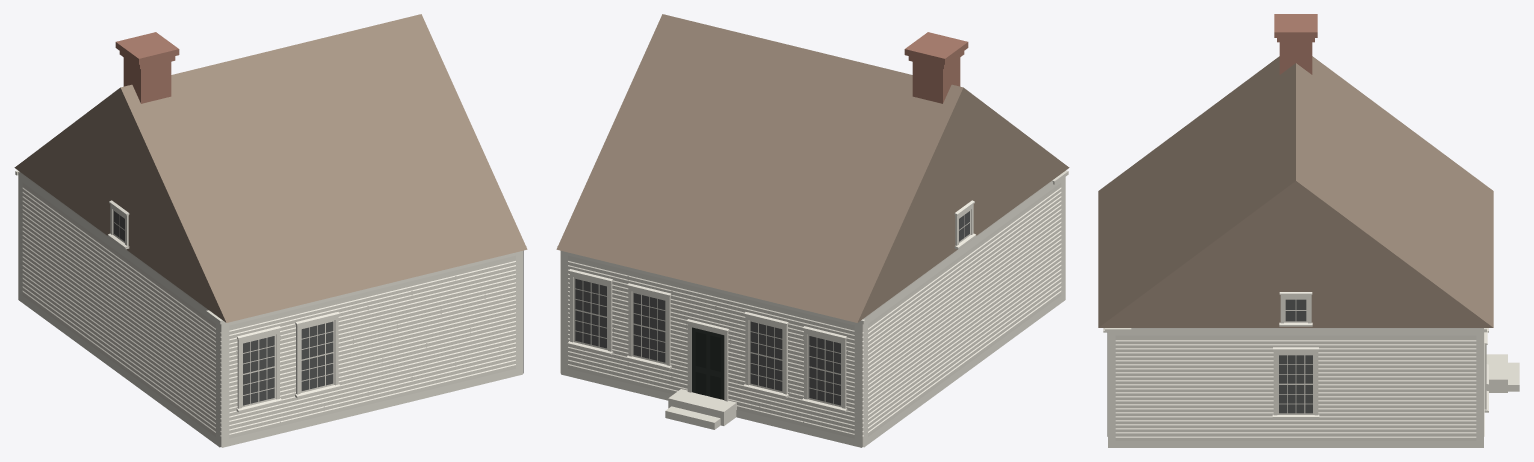
Rendered from recon_1835_blk_randolph_dearborn_h1_14__inferred_1835.glb.
3 views of the same model, side by side, from view 1: azimuth 30°, elevation 25°; view 2: azimuth 150°, elevation 25°; view 3: azimuth 270°, elevation 25° (orthographic). The views are drawn at different scales.
Visible parts, largest first — view 1: recon_1835_blk_randolph_dearborn_h1_14__inferred_1835; view 2: recon_1835_blk_randolph_dearborn_h1_14__inferred_1835; view 3: recon_1835_blk_randolph_dearborn_h1_14__inferred_1835.
Part boxes in pixels (box(x1,y1,x2,y2)): recon_1835_blk_randolph_dearborn_h1_14__inferred_1835: box(14, 14, 527, 447); recon_1835_blk_randolph_dearborn_h1_14__inferred_1835: box(556, 14, 1069, 447); recon_1835_blk_randolph_dearborn_h1_14__inferred_1835: box(1098, 14, 1519, 447).
Bounding box in the file's own units: 8.59 × 8.54 × 10.88.
